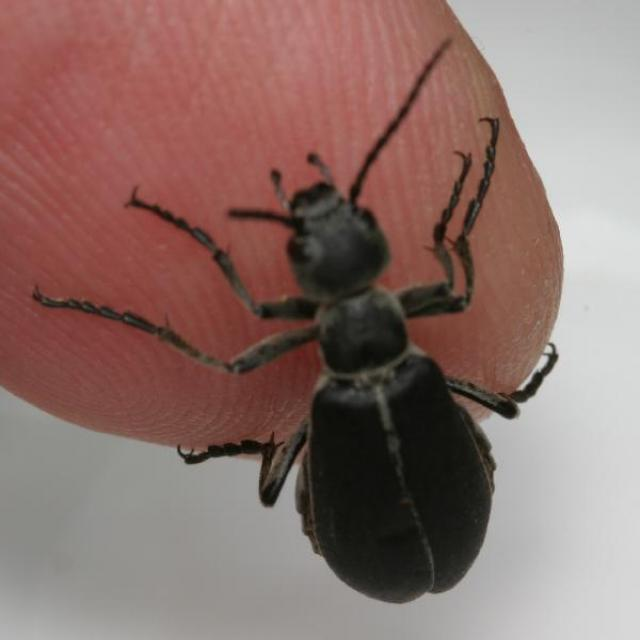BlisterBeetle-Adult-: (113, 31, 570, 606)
